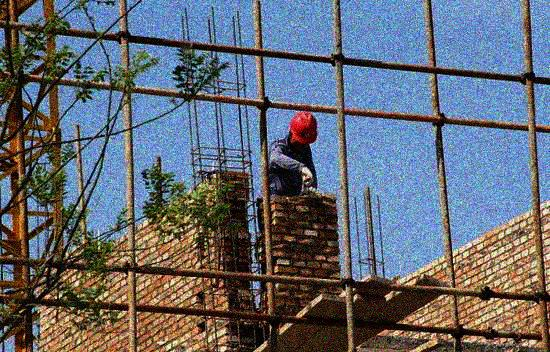helmet: (285, 111, 321, 148)
